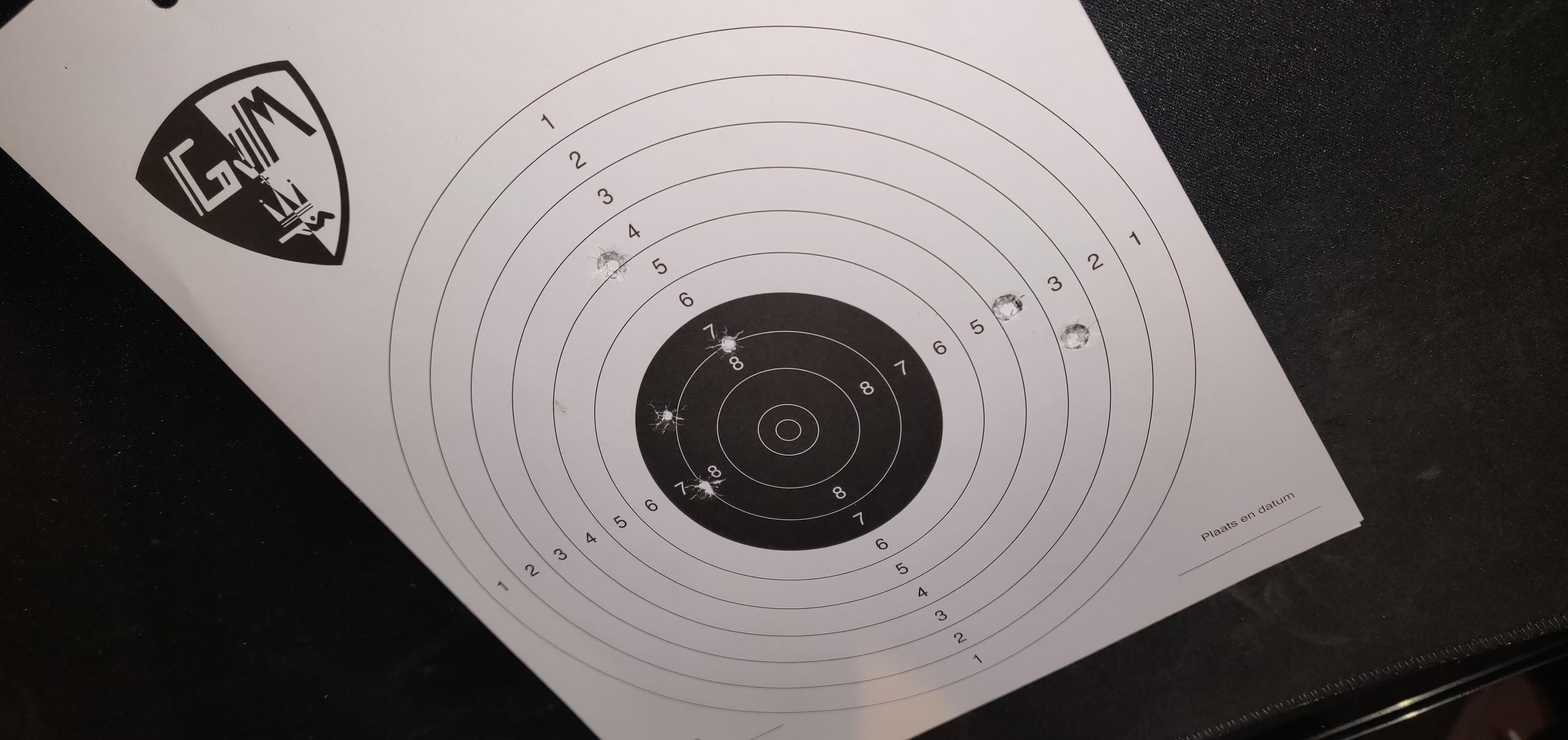hole: (937, 456, 976, 491), (543, 416, 577, 451), (823, 380, 860, 412), (476, 389, 508, 423), (886, 309, 920, 340), (846, 239, 875, 266)
